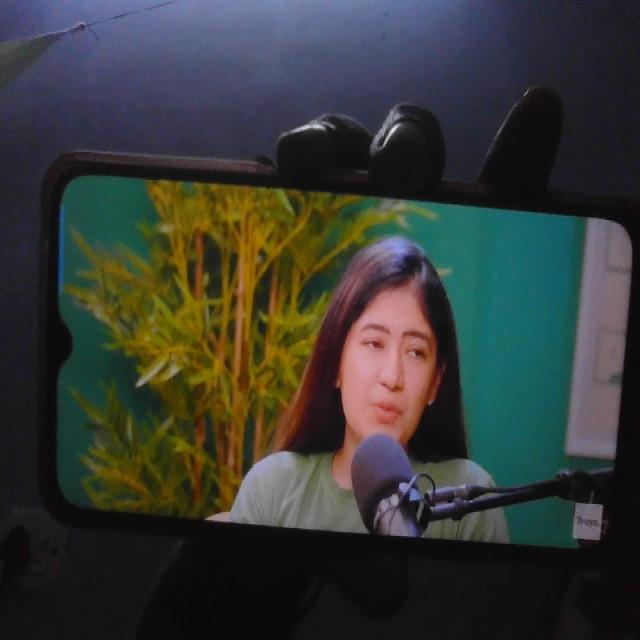fake: (329, 230, 447, 454)
